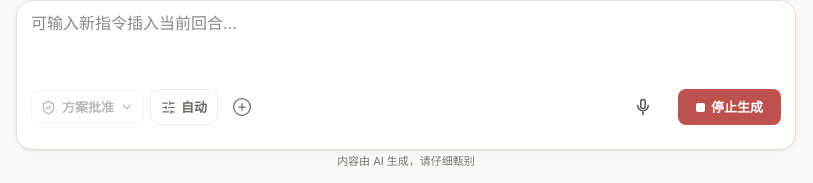
Test: ChatComposer project library drops › falls back to stop-and-send when steering would drop an attachment
Type "带附件发送" into the text box with placeholder "可输入新指令插入当前回合…" at [406, 37], box x1=31 y1=11 x2=781 y2=62
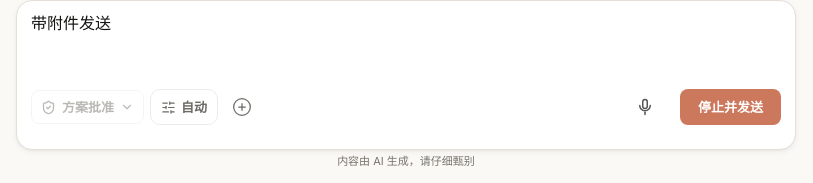
Now the button "停止并发送" is shown, box x1=680 y1=89 x2=781 y2=125
